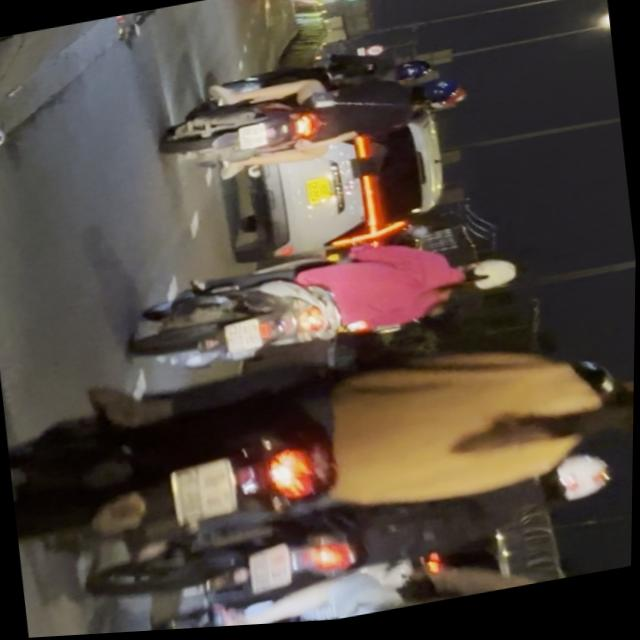helmet: (534, 457, 615, 517), (572, 383, 635, 456), (452, 259, 522, 304), (411, 80, 466, 116)
licenseplate: (0, 291, 636, 640), (121, 223, 526, 387), (79, 520, 634, 636), (156, 54, 471, 185)
nohelmet: (172, 462, 241, 528), (249, 547, 297, 597), (224, 321, 265, 361), (237, 125, 268, 154)
